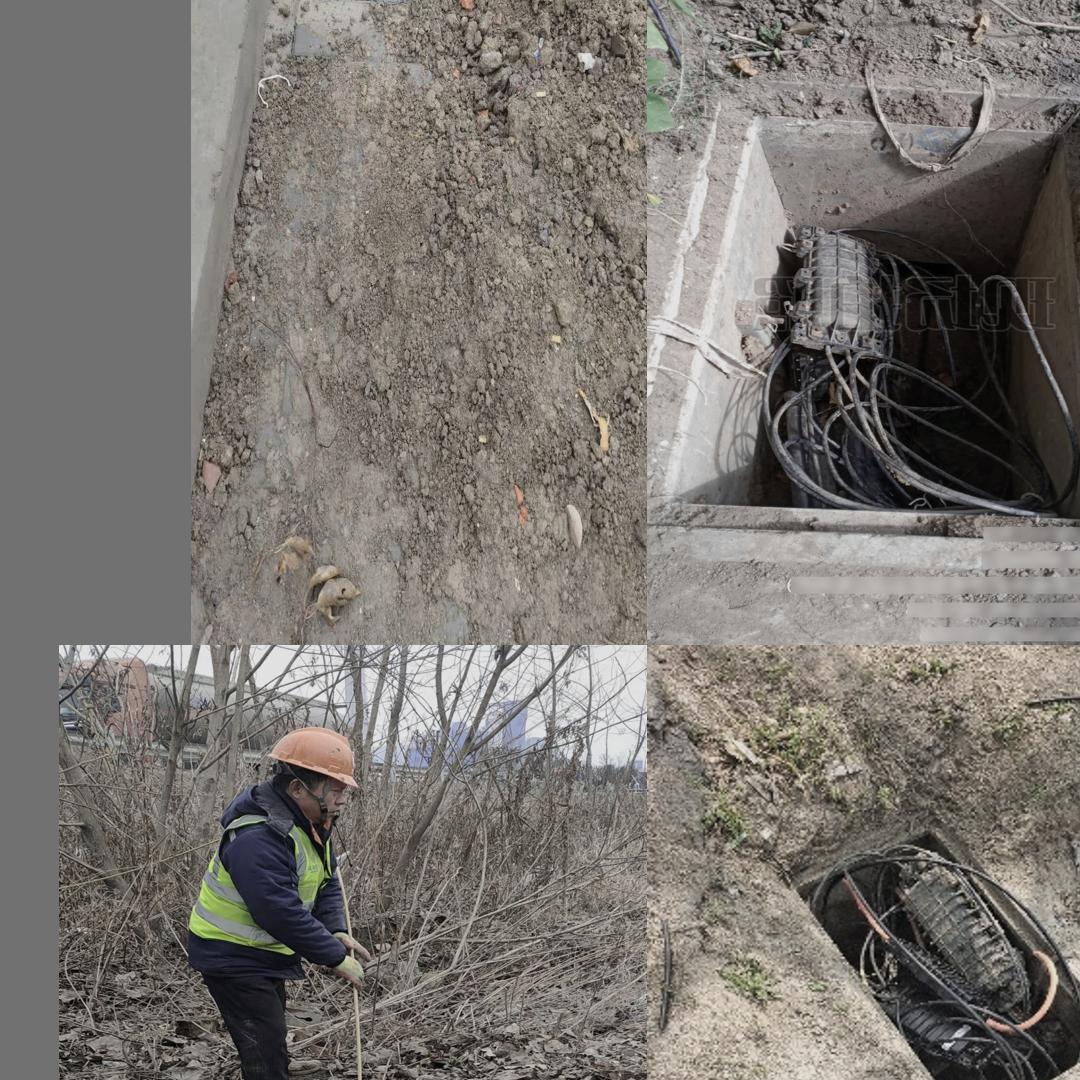lose: (648, 96, 1080, 537), (776, 819, 1080, 1080), (310, 0, 461, 14)
